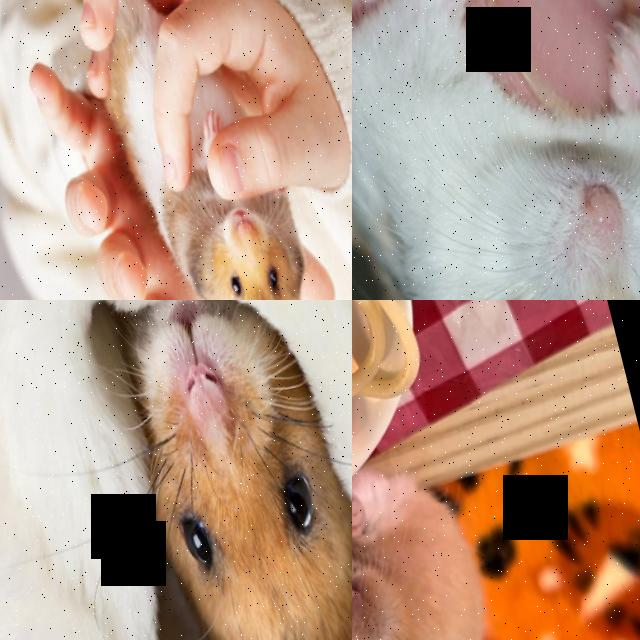hamster: (93, 300, 352, 640), (352, 0, 640, 300), (71, 0, 338, 300), (352, 461, 529, 640)
